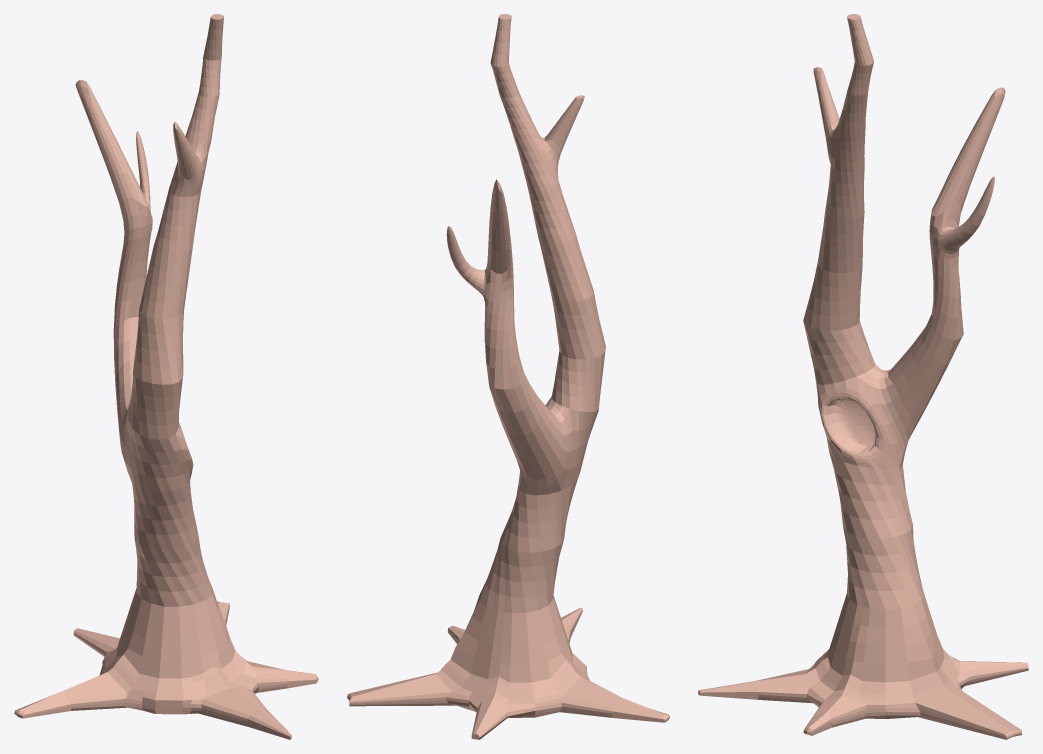
Rendered from M4BO_FPS_Tree3_low.fbx.
3 views of the same model, side by side, from view 1: azimuth 30°, elevation 25°; view 2: azimuth 150°, elevation 25°; view 3: azimuth 270°, elevation 25° (orthographic). The views are drawn at different scales.
Parts seen in each view (by area): view 1: tree_low; view 2: tree_low; view 3: tree_low.
Part boxes in pixels (x1,y1,x2,y2): tree_low: (14,14,318,739); tree_low: (347,14,669,739); tree_low: (698,14,1028,739).
Bounding box in the file's own units: 898 × 2122 × 928.
